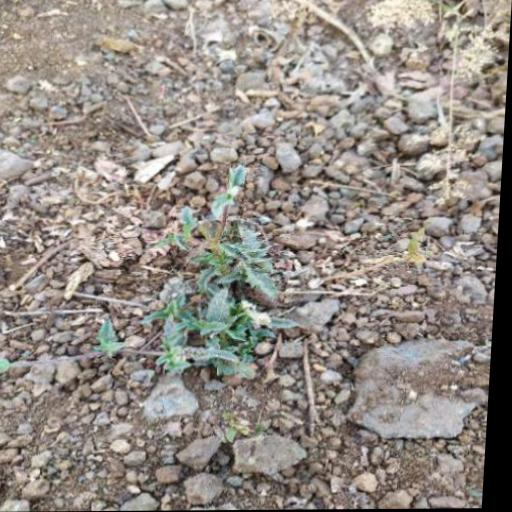weed: (95, 172, 303, 407)
